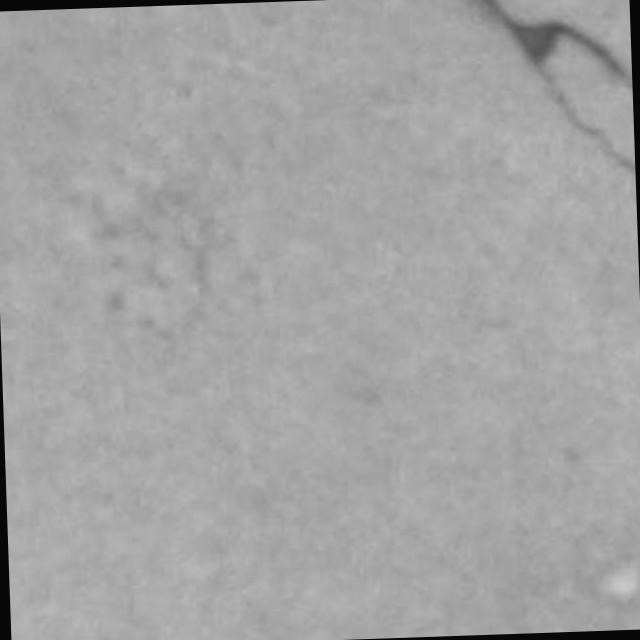crack: (472, 0, 635, 173)
